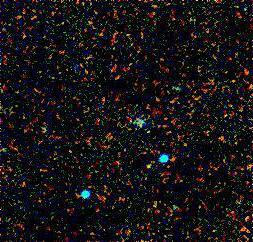star: (131, 151, 161, 181)
